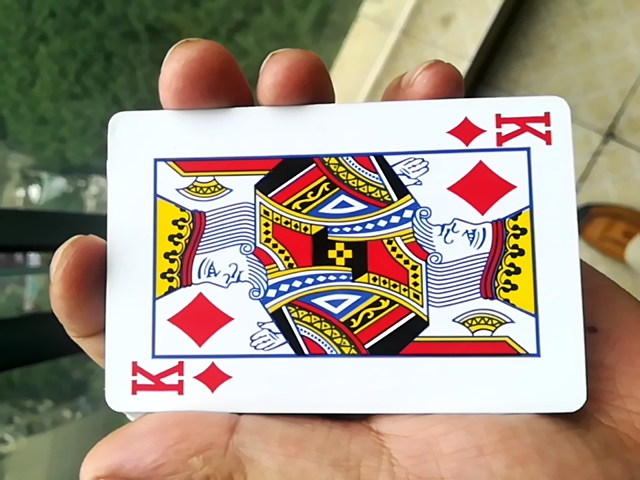fk k: (94, 101, 583, 418)
